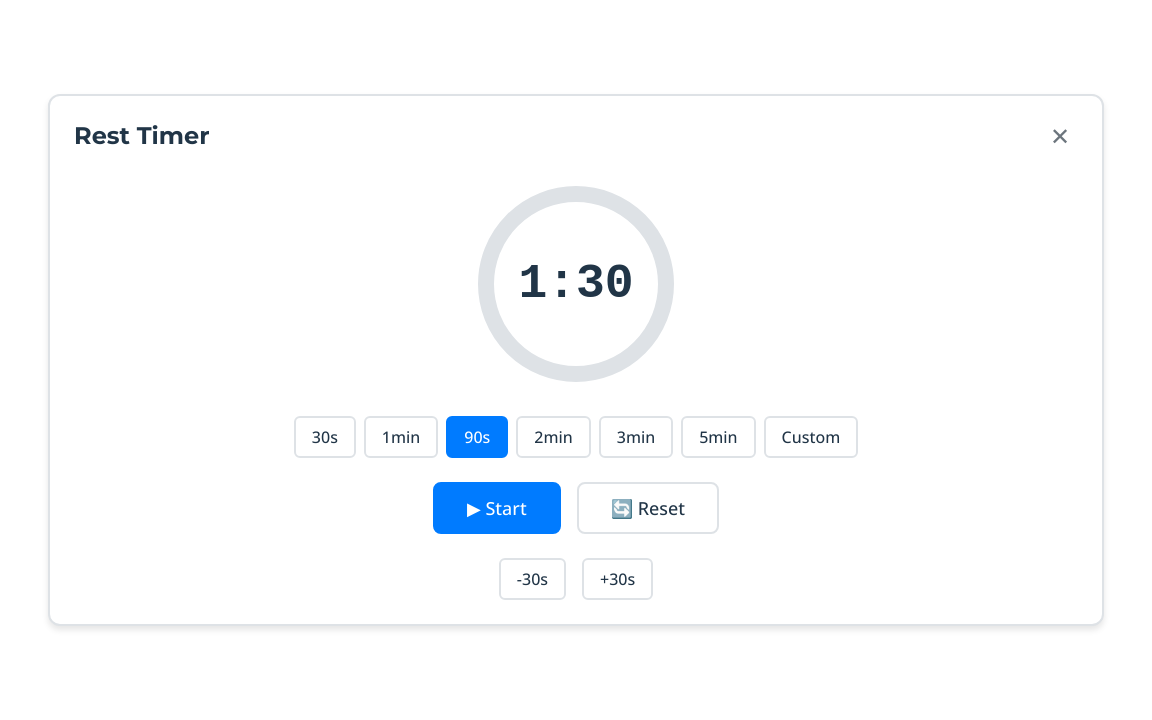
Test: RestTimer › shows custom input when Custom button is clicked
Step 1. Click the button with aria-label "Set custom rest time" → (811, 437), box [764,416,858,458]
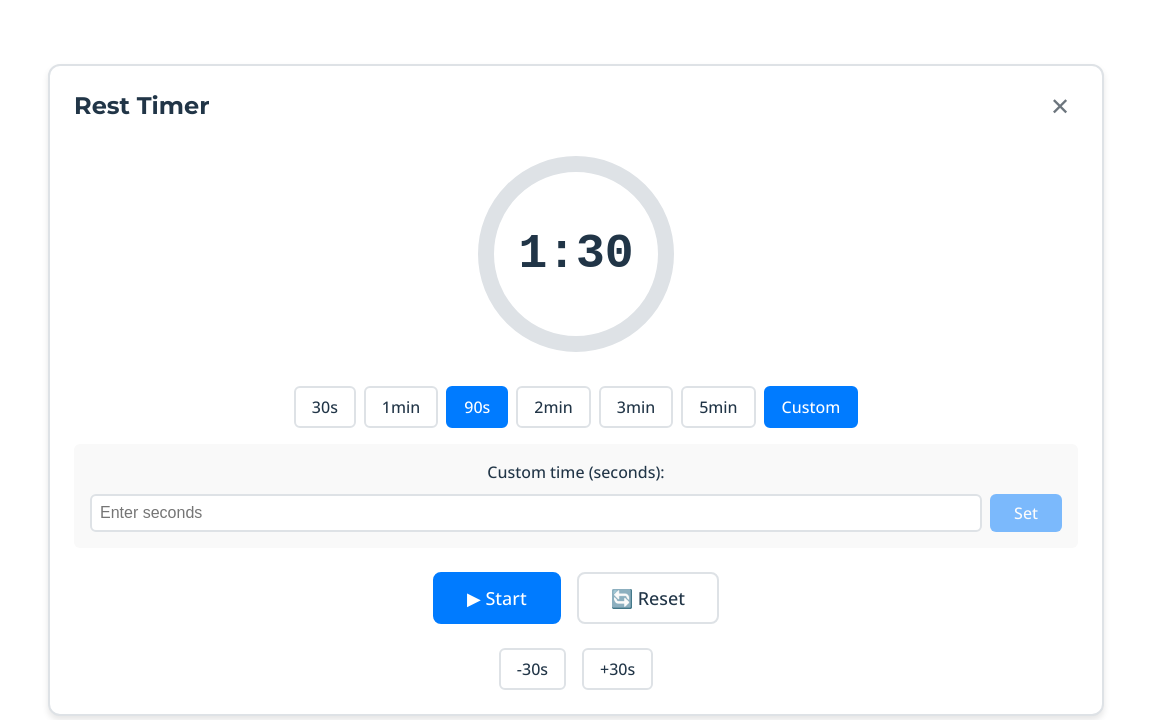
Expected: the number field named "Custom rest time in seconds" is shown, [90,494,982,532]
Expected: the button with aria-label "Set custom time" is shown, [990,494,1062,532]
